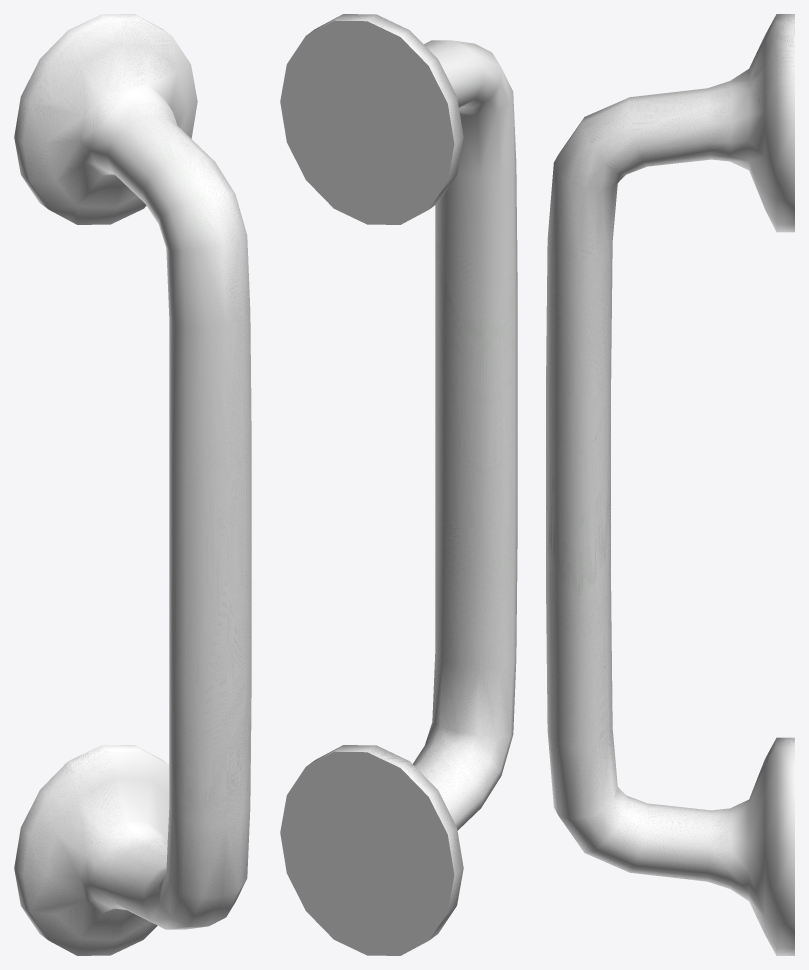
Rendered from original-33.obj.
The picture shows the model from 3 angles, left to right: view 1: azimuth 30°, elevation 25°; view 2: azimuth 150°, elevation 25°; view 3: azimuth 270°, elevation 25°; orthographic projection.
Parts seen in each view (by area): view 1: _7035_LB1/_7035_LB/mesh23/mesh23-geometry#mesh23-geometry; view 2: _7035_LB1/_7035_LB/mesh23/mesh23-geometry#mesh23-geometry; view 3: _7035_LB1/_7035_LB/mesh23/mesh23-geometry#mesh23-geometry.
Boxes of the visible parts, <box> form: _7035_LB1/_7035_LB/mesh23/mesh23-geometry#mesh23-geometry: <box>14,14,251,955</box>; _7035_LB1/_7035_LB/mesh23/mesh23-geometry#mesh23-geometry: <box>280,14,517,955</box>; _7035_LB1/_7035_LB/mesh23/mesh23-geometry#mesh23-geometry: <box>546,14,794,955</box>.
Size of the model in its own units: 0.0483 by 0.2476 by 0.0604.
